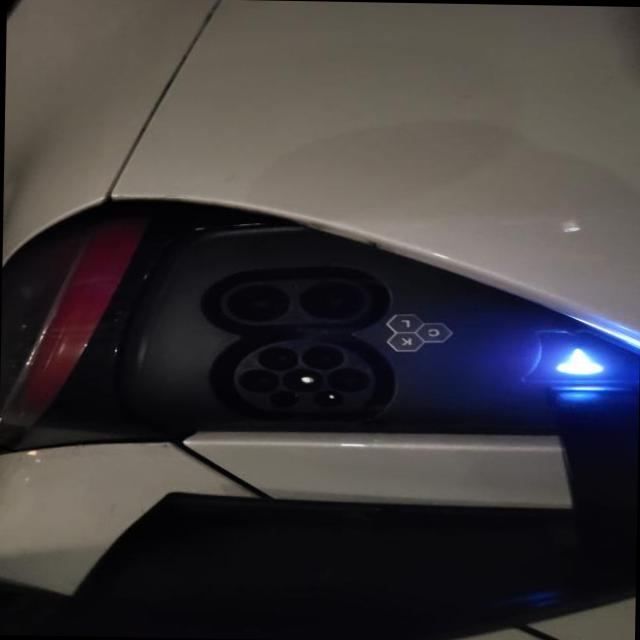inlet: (233, 339, 373, 410)
inlet-above-left: (311, 389, 343, 406)
inlet-above-right: (266, 389, 298, 406)
inlet-below-left: (300, 345, 344, 369)
inlet-below-right: (256, 345, 298, 369)
inlet-center: (281, 368, 323, 391)
inlet-center-left: (326, 367, 369, 391)
inlet-center-right: (238, 368, 279, 392)
